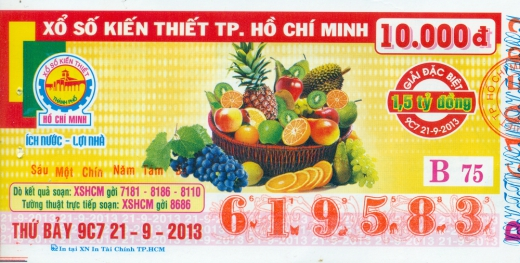serial_zone: (211, 193, 500, 247)
